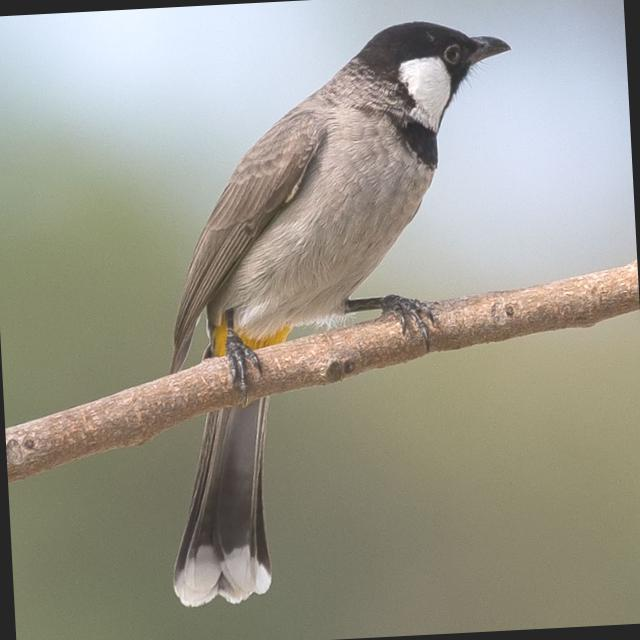bird: (135, 13, 543, 610)
